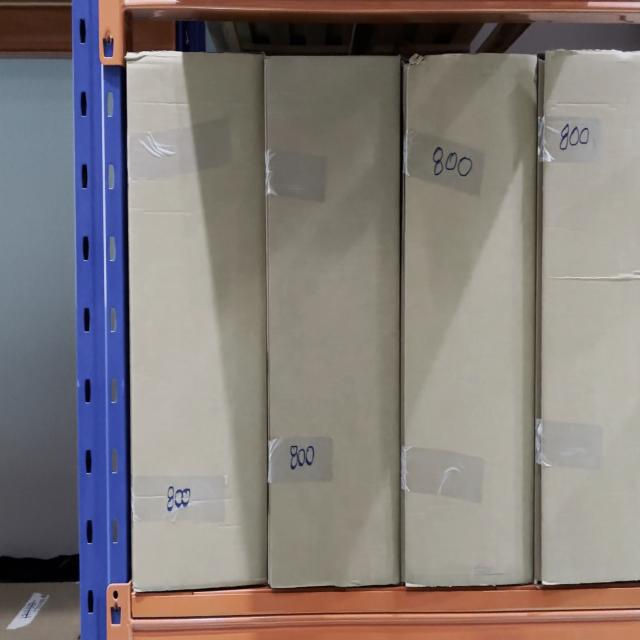box: (132, 57, 265, 590), (272, 60, 398, 583), (406, 63, 531, 583)
